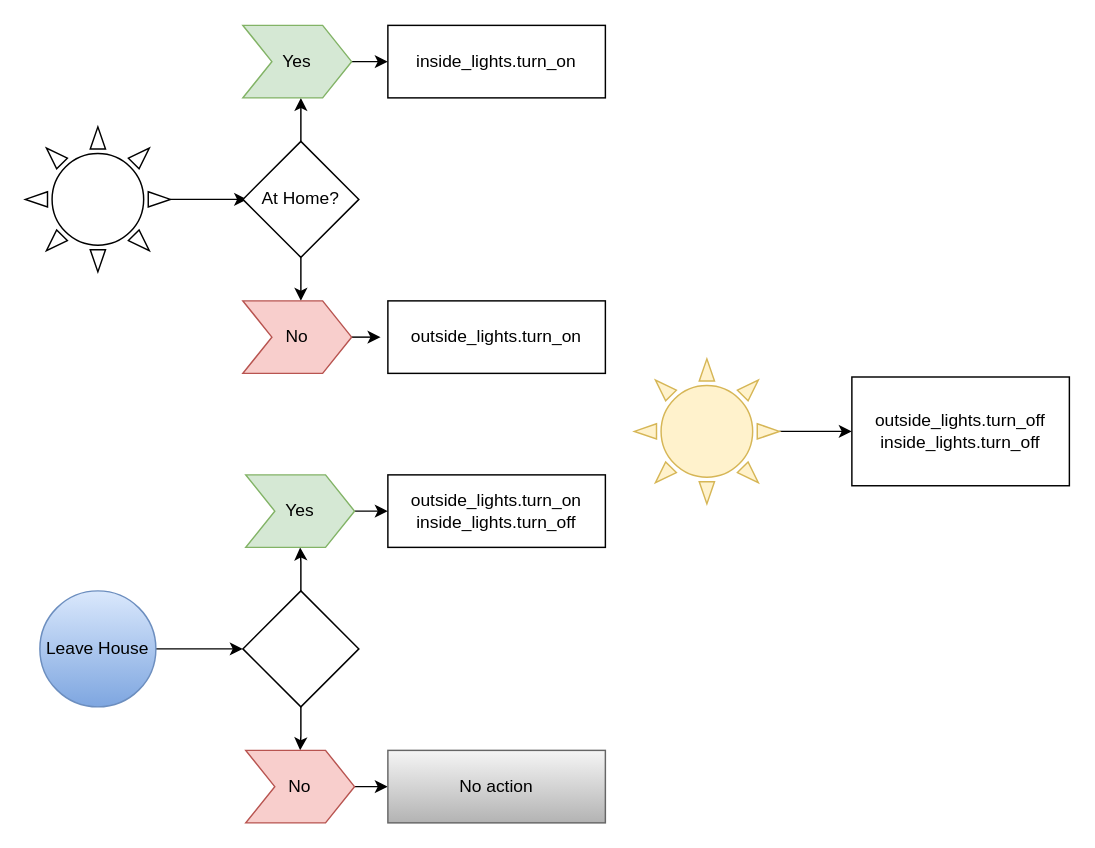
Image size: 1095x848. Some labels were removed from this diagram. Each missing label, with the centre of its shape:
At night?: the point at 300,648
Sunrise: the point at 706,430
Sunset: the point at 97,198
